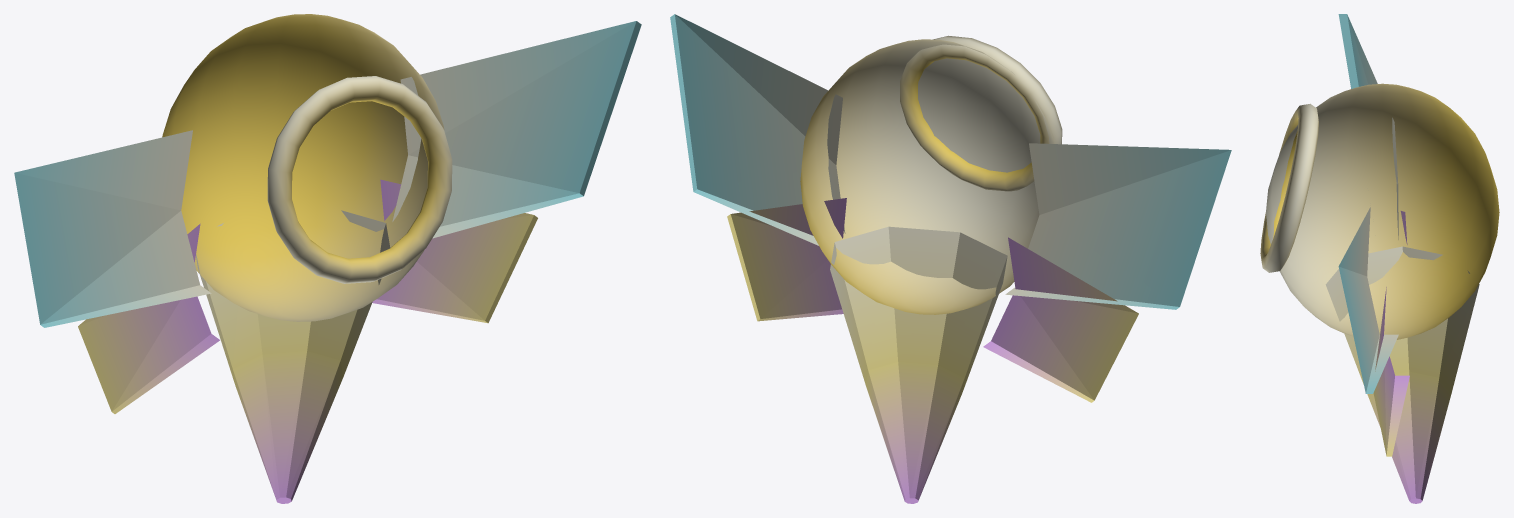
File: ship_funki_comet.glb
The picture shows the model from 3 angles, left to right: view 1: azimuth 30°, elevation 25°; view 2: azimuth 150°, elevation 25°; view 3: azimuth 270°, elevation 25°; orthographic projection. The views are drawn at different scales.
Visible parts, largest first — view 1: ShipRoot; view 2: ShipRoot; view 3: ShipRoot.
Part boxes in pixels (x1,y1,x2,y2): ShipRoot: [14, 14, 641, 503]; ShipRoot: [670, 14, 1231, 503]; ShipRoot: [1260, 14, 1499, 503].
Bounding box in the file's own units: 4.5 × 3.38 × 1.8.
